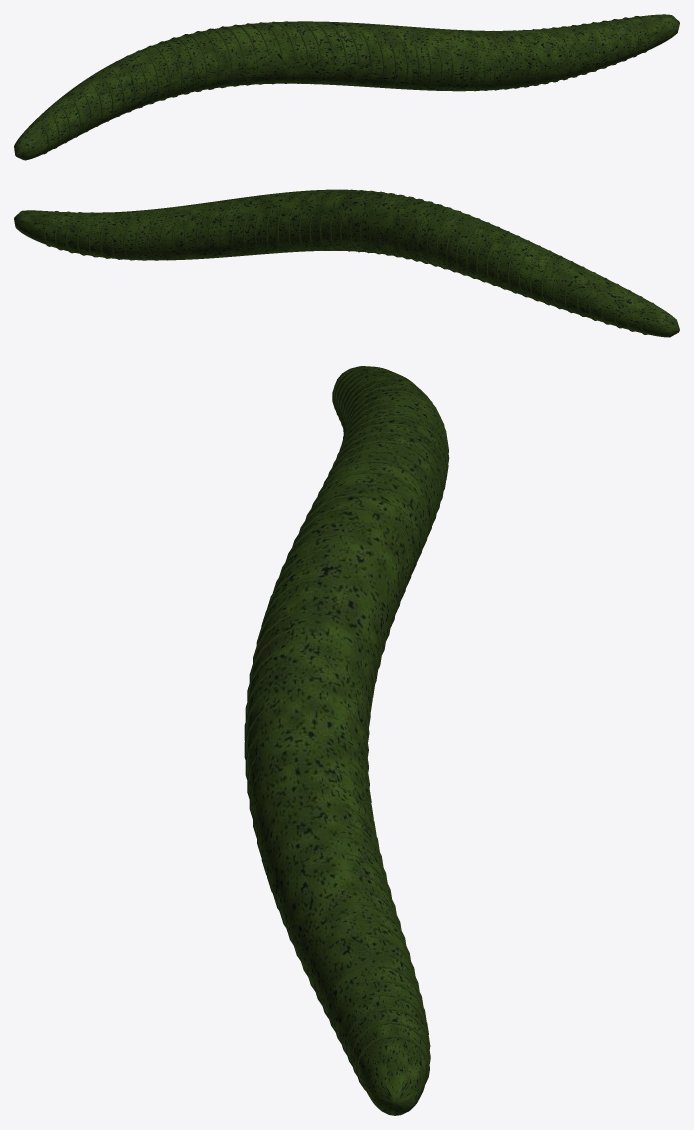
File: soft-plastic.glb
The picture shows the model from 3 angles, top to bottom: view 1: azimuth 30°, elevation 25°; view 2: azimuth 150°, elevation 25°; view 3: azimuth 270°, elevation 25°; orthographic projection. The views are drawn at different scales.
Parts seen in each view (by area): view 1: soft-plastic specimen; view 2: soft-plastic specimen; view 3: soft-plastic specimen.
Boxes of the visible parts, left/top/right/bottom form: soft-plastic specimen: left=14, top=14, right=679, bottom=160; soft-plastic specimen: left=14, top=189, right=679, bottom=337; soft-plastic specimen: left=244, top=366, right=449, bottom=1115.
Bounding box in the file's own units: 2.04 × 0.3772 × 0.2764.
1 material, 1 textured.
